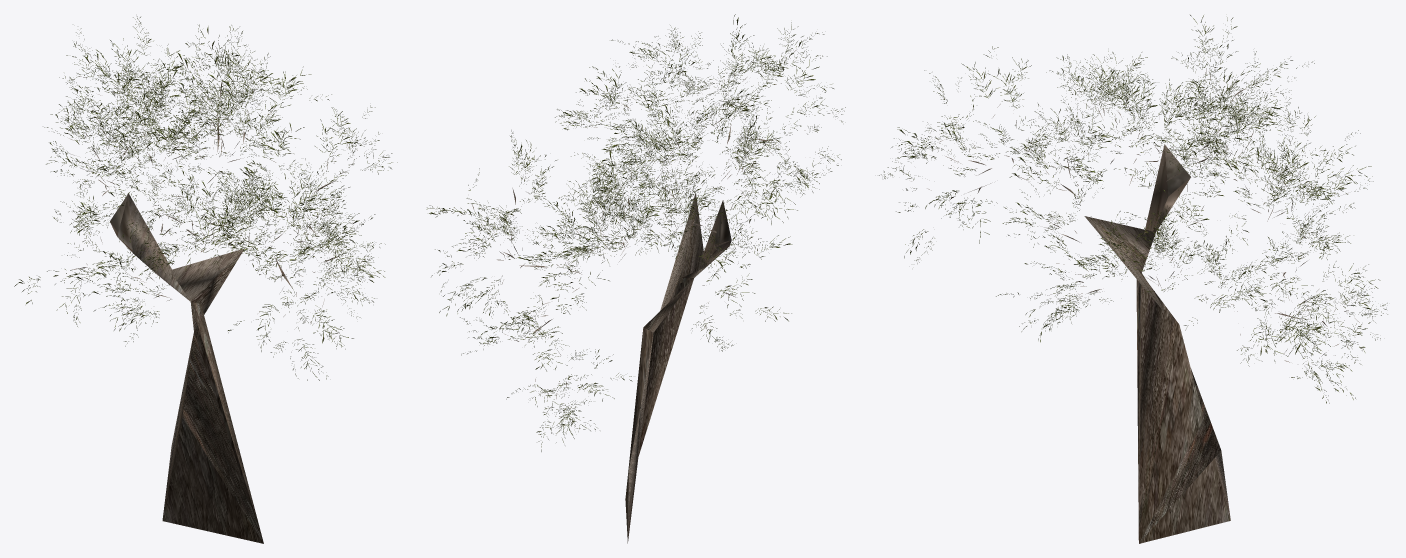
The model's file is tree_small_02.glb.
3 renders of one model, left to right at view 1: azimuth 30°, elevation 25°; view 2: azimuth 150°, elevation 25°; view 3: azimuth 270°, elevation 25°, orthographic. The views are drawn at different scales.
Visible parts, largest first — view 1: tree_small_02_LOD0; view 2: tree_small_02_LOD0; view 3: tree_small_02_LOD0.
Boxes of the visible parts, left/top/right/bottom form: tree_small_02_LOD0: left=14, top=16, right=397, bottom=543; tree_small_02_LOD0: left=426, top=14, right=845, bottom=543; tree_small_02_LOD0: left=879, top=15, right=1387, bottom=543.
Size of the model in its own units: 2.87 by 4.24 by 4.27.
Materials: 3 (3 with a texture image).
